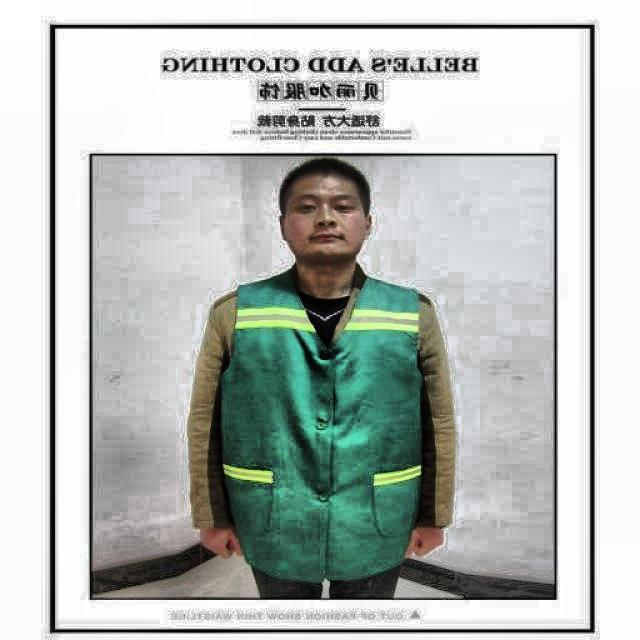safety_jacket: (215, 272, 426, 580)
